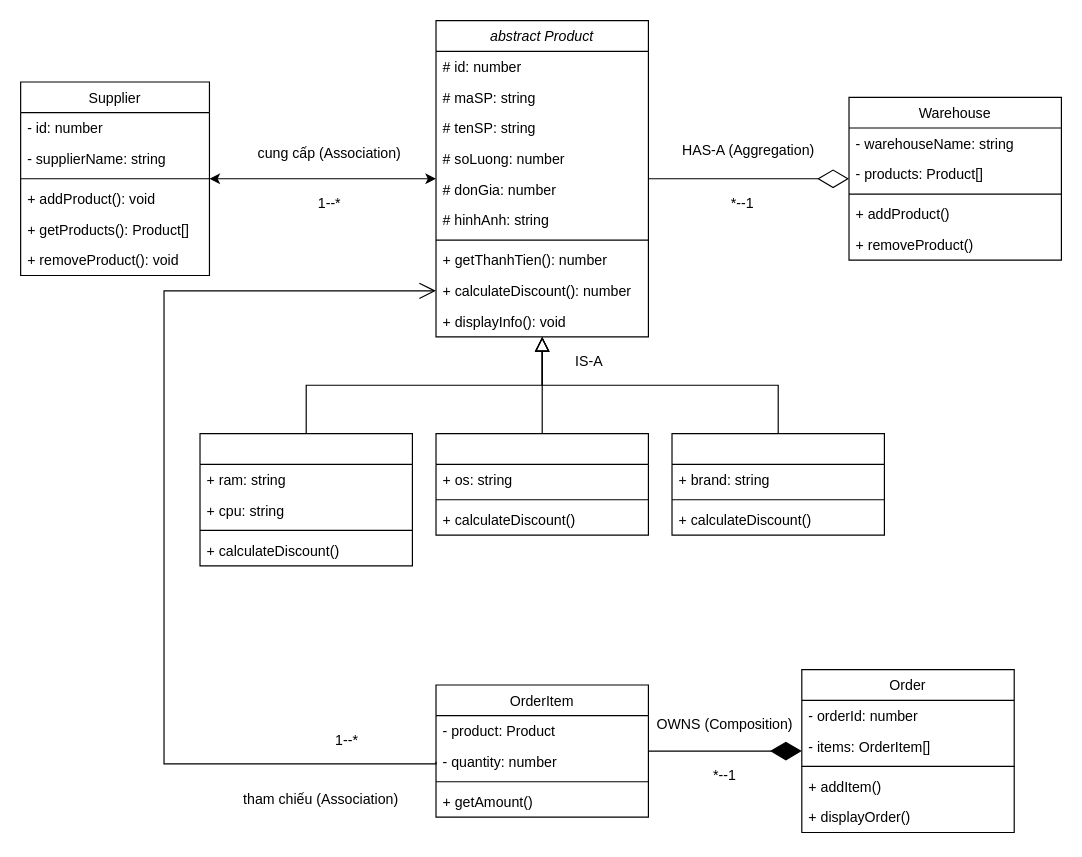
Image size: 1082x857. Some labels were removed from this diagram. The shapes that lost their labels are listed below. From the top down, each one's box as (x1, y1, x2, y2) in pixels, then its label:
(199, 432, 412, 566): Laptop
(435, 432, 648, 535): Phone
(671, 432, 884, 535): Accessory
